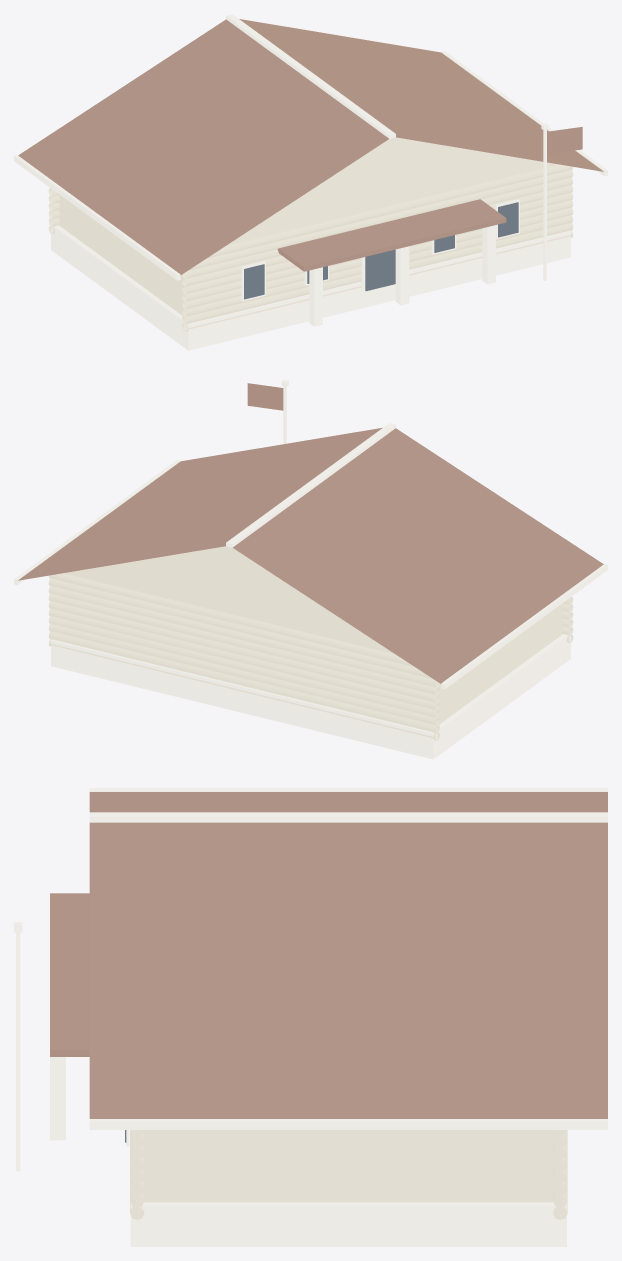
The model's file is Blender_Clubhouse_loglodge.glb.
3 views of the same model, one above another, from view 1: azimuth 30°, elevation 25°; view 2: azimuth 150°, elevation 25°; view 3: azimuth 270°, elevation 25° (orthographic). The views are drawn at different scales.
Parts seen in each view (by area): view 1: Blender_Clubhouse_loglodge; view 2: Blender_Clubhouse_loglodge; view 3: Blender_Clubhouse_loglodge.
Part boxes in pixels (<box>): Blender_Clubhouse_loglodge: <box>14,14,607,350</box>; Blender_Clubhouse_loglodge: <box>14,379,607,759</box>; Blender_Clubhouse_loglodge: <box>14,788,607,1246</box>.
Size of the model in its own units: 29.84 by 11.85 by 22.46.
